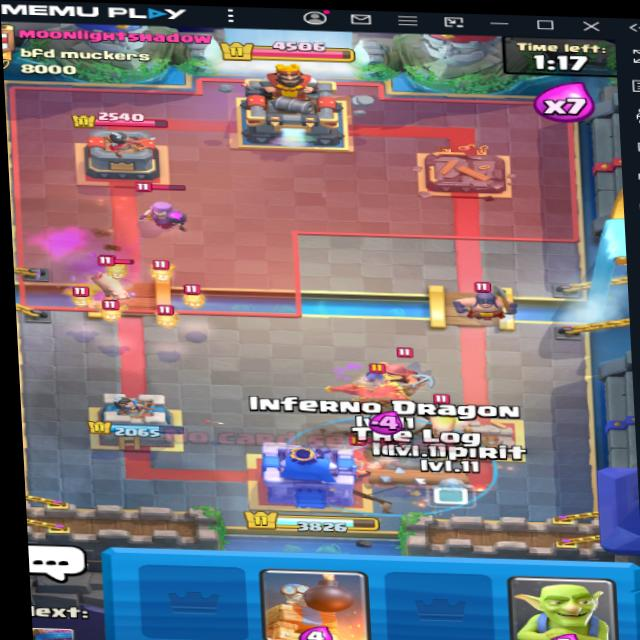executioner: (453, 281, 518, 327)
fisherman: (363, 351, 438, 395)
lumberjack: (342, 434, 414, 473)
mother-witch: (131, 176, 206, 233)
phoenix: (333, 367, 425, 418)
pig: (422, 394, 463, 444), (84, 265, 134, 305)
